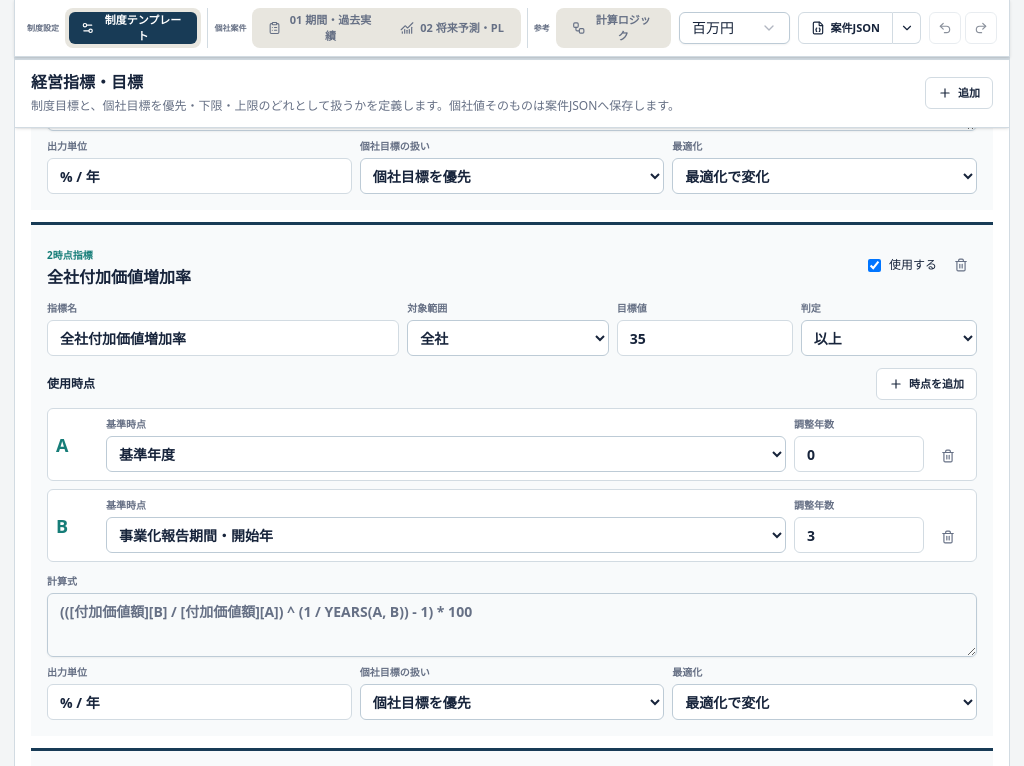
it: 制度定義画面 › 指標の時点追加・削除から期間種別を自動表示する
The image size is (1024, 766).
(page scrolled)
Expected: the element with test id "metric-company-value-added-growth" shows "2時点指標", [47,248,93,262]
Step 1. Click the button with aria-label "全社付加価値増加率の時点を追加" → point(926, 384), box [876,368,977,400]
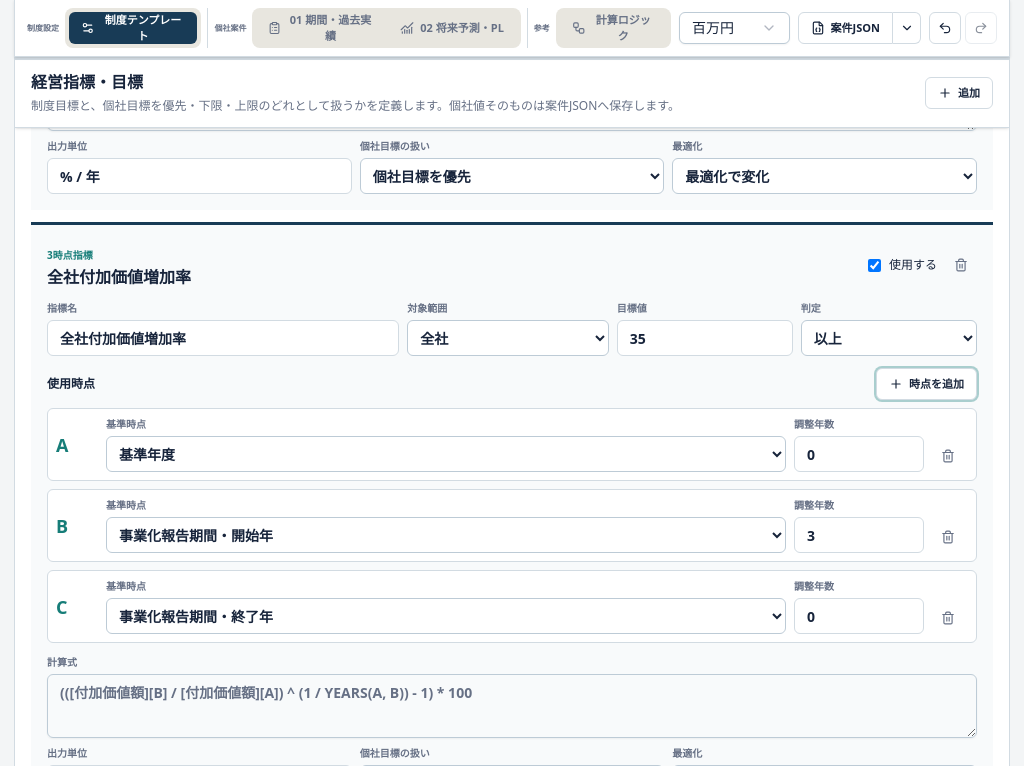
Expected: the element with test id "metric-company-value-added-growth" shows "3時点指標", [47,248,93,262]
Step 2. Click the button named "全社付加価値増加率の時点Bを削除" → point(948, 537), box [932,521,964,553]
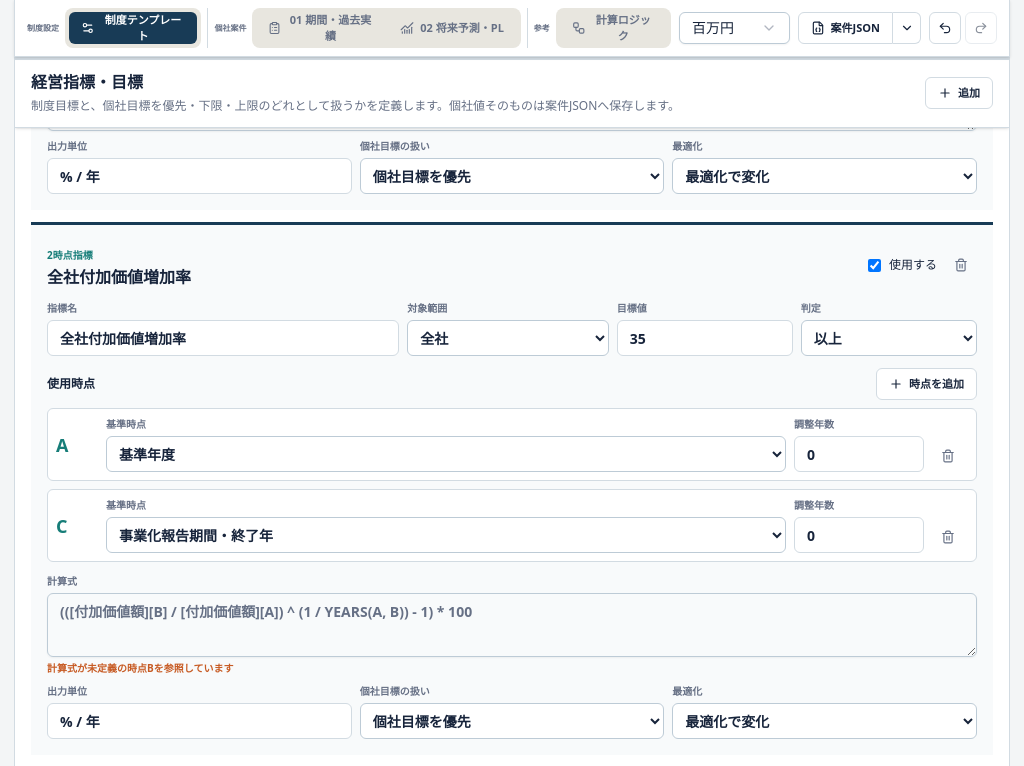
Expected: the element with test id "metric-company-value-added-growth" shows "2時点指標", [47,248,93,262]
